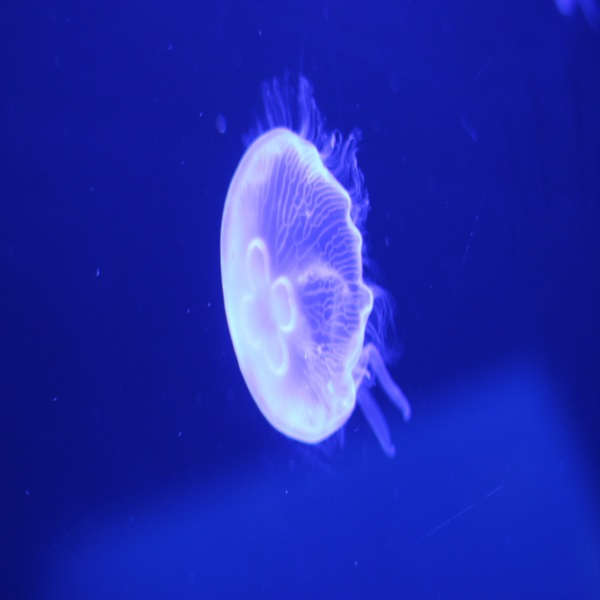Jellyfish: (219, 72, 404, 455)
